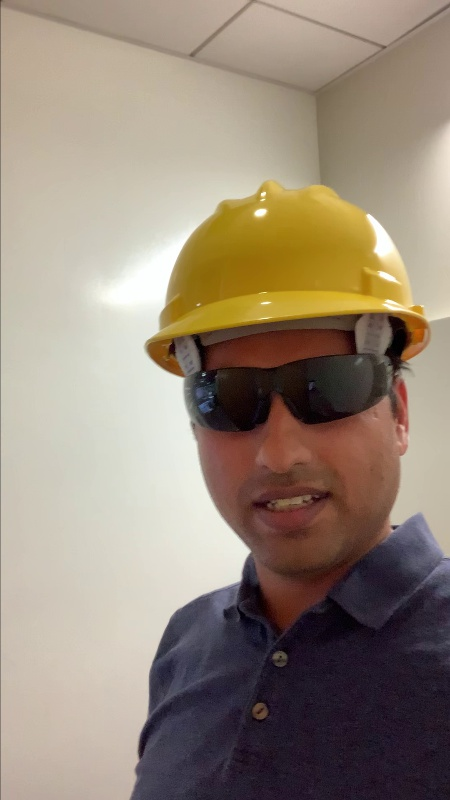glasses: (167, 349, 399, 422)
helmet: (119, 170, 440, 353)
